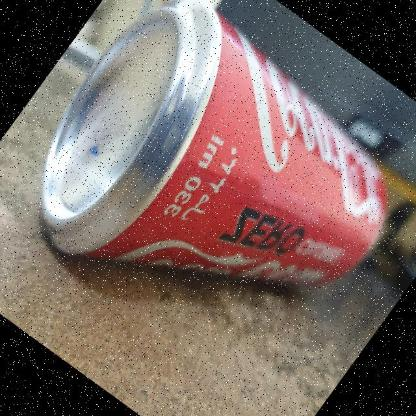Can: (37, 4, 390, 296)
